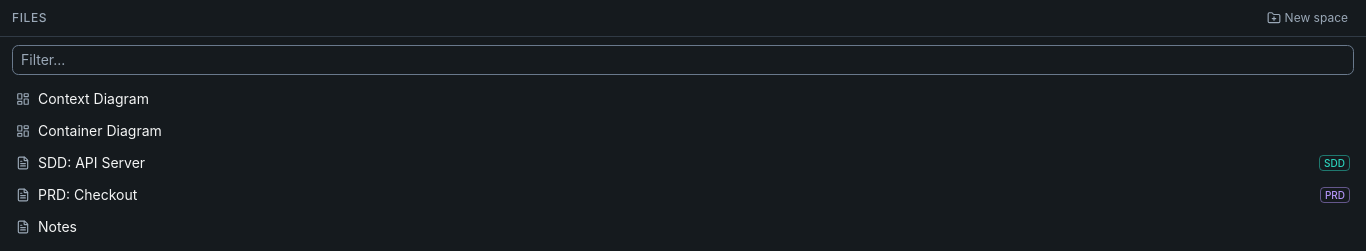
Scenario: FilesFlyout › filters items by search query
The width and height of the screenshot is (1366, 251).
Type "api" into the field with placeholder "Filter...". click: coordinates (683, 60)
box: [12,45,1354,75]
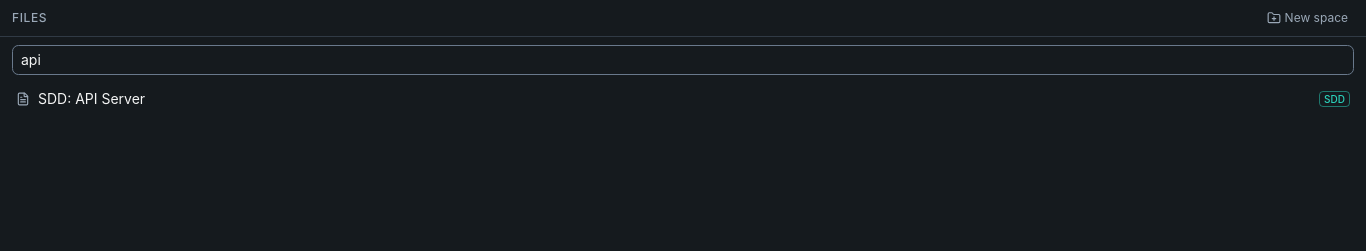
Expected: the text "SDD: API Server" is shown, [38,90,145,107]
Now the button "Context Diagram" is gone
